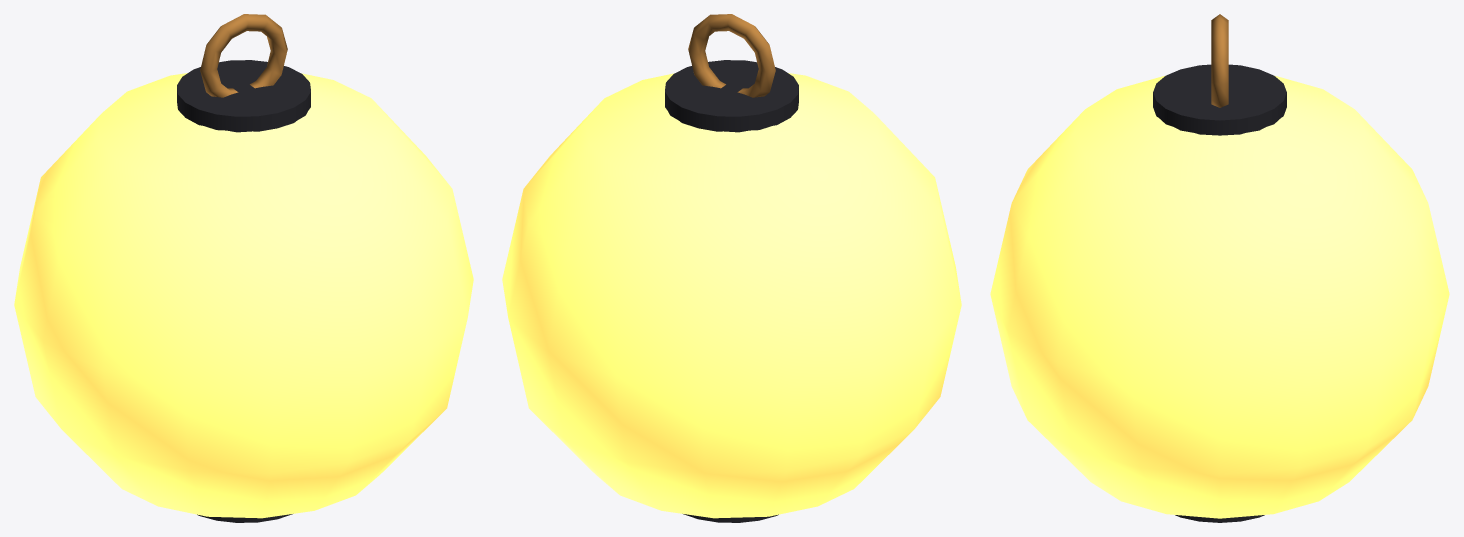
File: mia-lantern_string.glb
3 views of the same model, side by side, from view 1: azimuth 30°, elevation 25°; view 2: azimuth 150°, elevation 25°; view 3: azimuth 270°, elevation 25° (orthographic).
Visible parts, largest first — view 1: Body_string-paper, Body_iron, Body_brass; view 2: Body_string-paper, Body_iron, Body_brass; view 3: Body_string-paper, Body_iron, Body_brass.
Part boxes in pixels (box(x1,y1,x2,y2)): Body_string-paper: box(14, 73, 473, 518); Body_iron: box(177, 60, 310, 522); Body_brass: box(200, 14, 287, 97); Body_string-paper: box(502, 73, 961, 518); Body_iron: box(665, 60, 798, 522); Body_brass: box(688, 14, 775, 97); Body_string-paper: box(990, 75, 1449, 518); Body_iron: box(1153, 64, 1286, 522); Body_brass: box(1211, 14, 1228, 107).
Bounding box in the file's own units: 0.302 × 0.3455 × 0.302.
